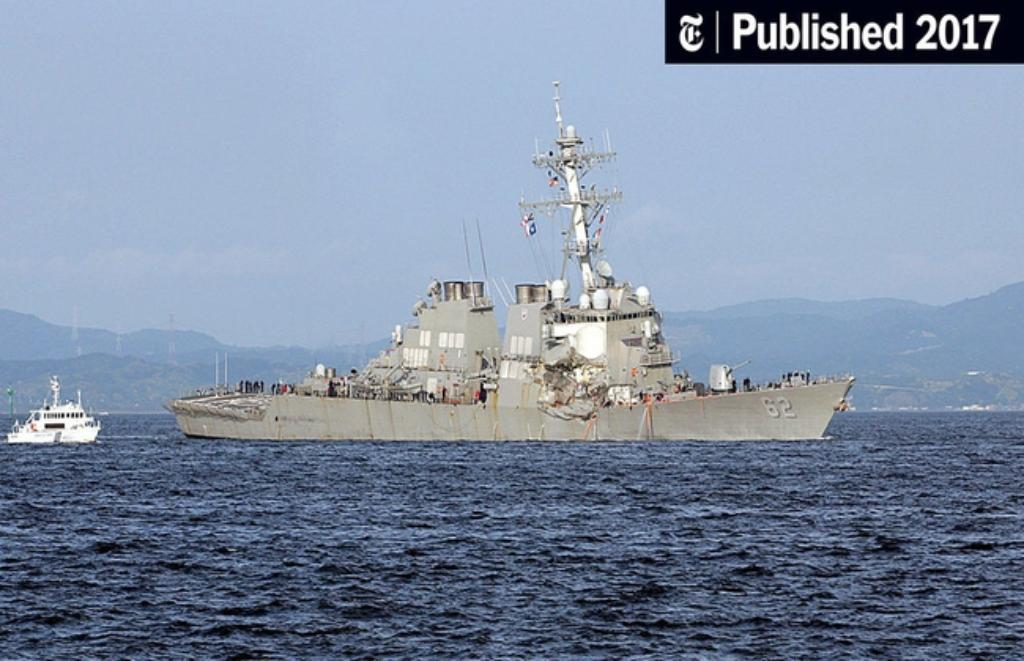PassengerShip: (10, 376, 106, 446)
